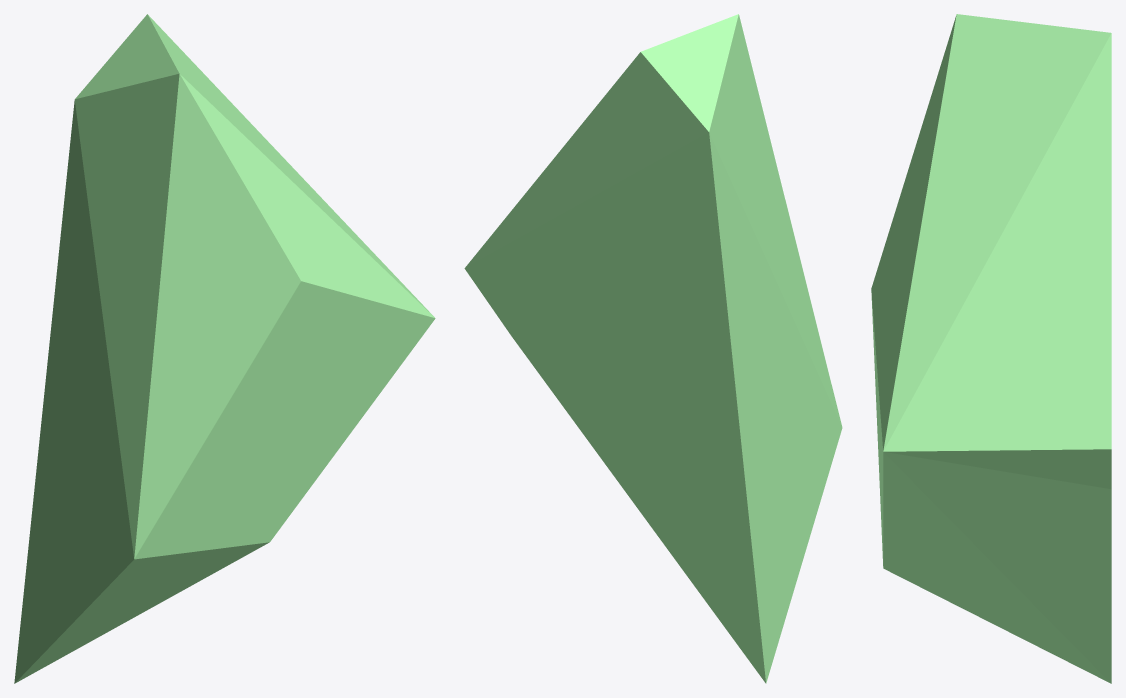
The model's file is UMIRobot_UMIRobot_link_2_convex_coll_22.dae.
The picture shows the model from 3 angles, left to right: view 1: azimuth 30°, elevation 25°; view 2: azimuth 150°, elevation 25°; view 3: azimuth 270°, elevation 25°; orthographic projection. The views are drawn at different scales.
Visible parts, largest first — view 1: node; view 2: node; view 3: node.
Part boxes in pixels (x1,y1,x2,y2): node: (14, 14, 435, 683); node: (464, 14, 842, 683); node: (871, 14, 1111, 683).
Size of the model in its own units: 0.0258 by 0.049 by 0.0147.
